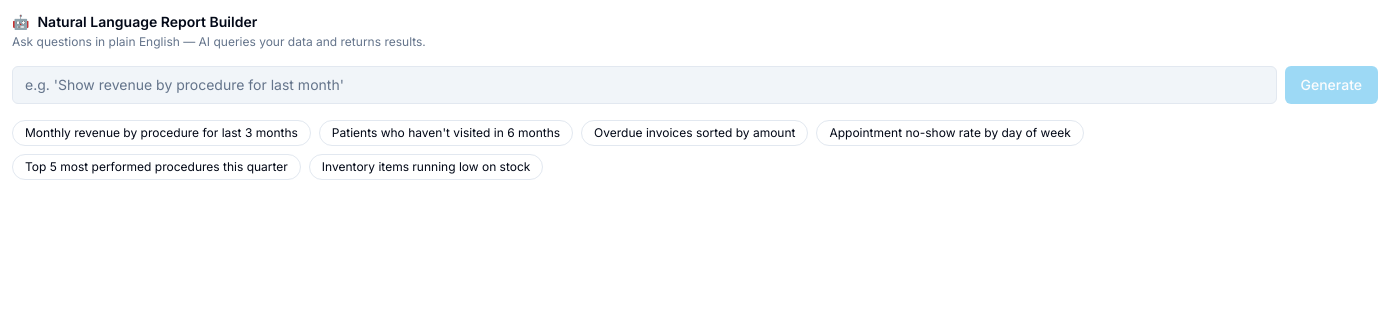
it: ReportBuilder › shows Export JSON button when results are present
The image size is (1390, 317).
Type "Show revenue" into the field with placeholder "e.g. 'Show revenue by procedure for last month'".
click(644, 85); type("Show revenue")  # box [12,66,1276,104]
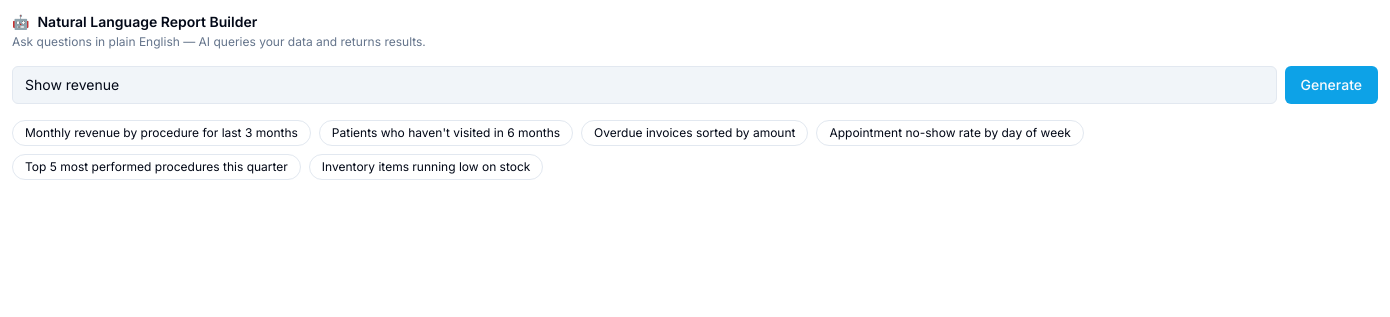
Click the button "Generate".
click(1331, 85)  # box [1284,66,1378,104]
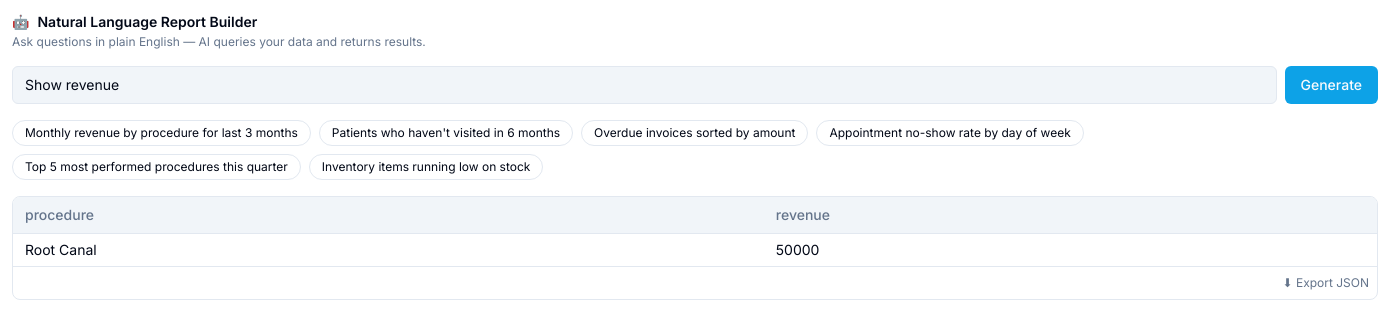
Now the button "⬇ Export JSON" is shown, box [1282,275,1369,291]
